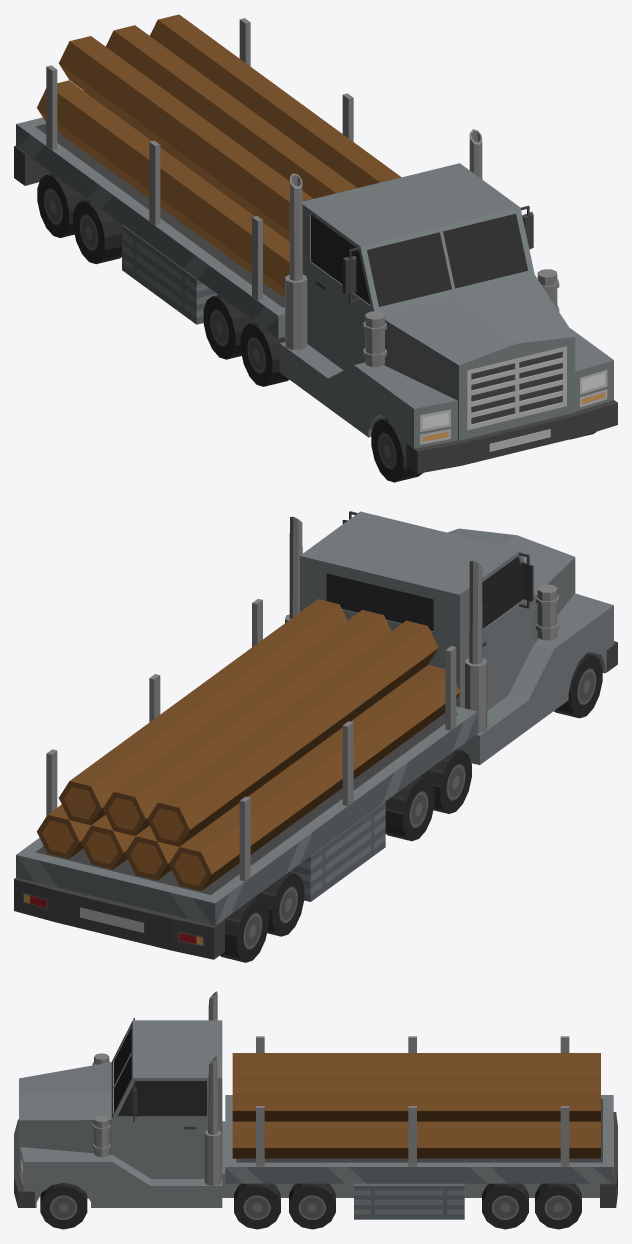
The model's file is truck-log.glb.
The picture shows the model from 3 angles, top to bottom: view 1: azimuth 30°, elevation 25°; view 2: azimuth 150°, elevation 25°; view 3: azimuth 270°, elevation 25°; orthographic projection. The views are drawn at different scales.
Parts seen in each view (by area): view 1: Body, Logs, RR3, RR1, RR2, RR4, FR; view 2: Body, Logs, RR2, RR4, RR1, RR3, FR; view 3: Body, Logs, RL1, RL4, RL3, RL2, FL.
Part boxes in pixels (bbox=[...]): Body: bbox=[14, 18, 617, 473]; Logs: bbox=[37, 14, 401, 297]; RR3: bbox=[73, 199, 121, 264]; RR1: bbox=[240, 322, 289, 386]; RR2: bbox=[203, 295, 254, 359]; RR4: bbox=[37, 173, 87, 237]; FR: bbox=[371, 417, 422, 482]; Body: bbox=[14, 511, 617, 959]; Logs: bbox=[37, 599, 460, 891]; RR2: bbox=[385, 776, 434, 841]; RR4: bbox=[220, 898, 268, 962]; RR1: bbox=[420, 749, 471, 813]; RR3: bbox=[254, 872, 304, 936]; FR: bbox=[554, 653, 602, 718]; Body: bbox=[14, 991, 617, 1219]; Logs: bbox=[232, 1053, 600, 1158]; RL1: bbox=[234, 1183, 280, 1229]; RL4: bbox=[535, 1183, 581, 1229]; RL3: bbox=[482, 1183, 528, 1229]; RL2: bbox=[289, 1183, 335, 1229]; FL: bbox=[40, 1182, 87, 1229].
Bounding box in the file's own units: 3.94 × 4.3 × 13.88.
1 material, 1 textured.
